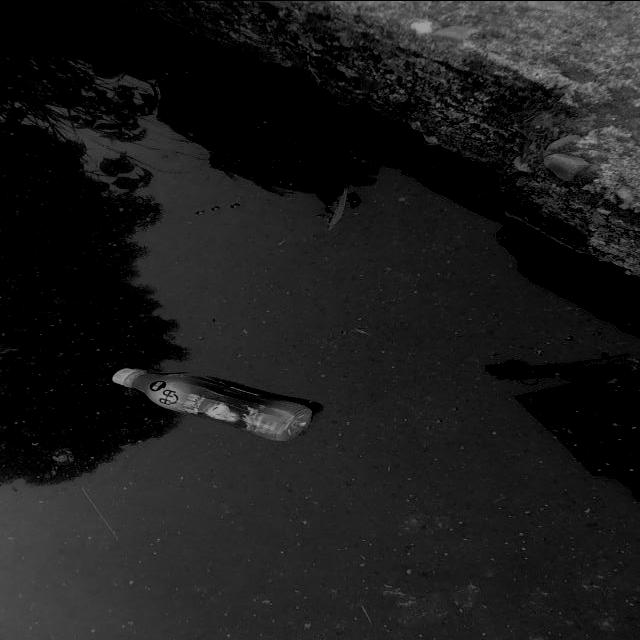bottle: (99, 348, 327, 456)
